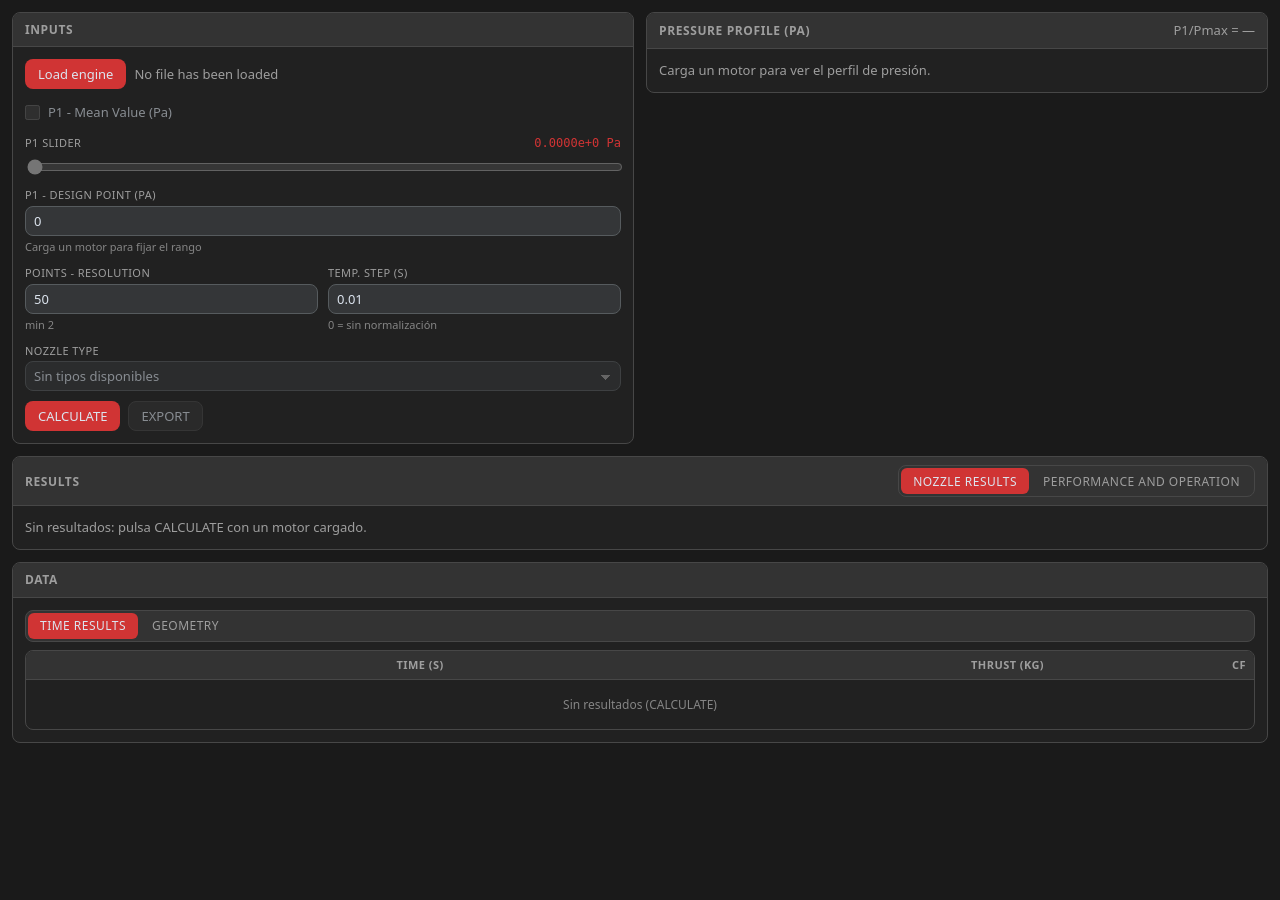
Test case: NozzleTab (T2) › carga el motor mockeado y aplica P1 medio (T2-1/T2-2)
The image size is (1280, 900).
What coordinates should you click on to do the following:
click the button "Load engine"
I would click on:
 (76, 74)
Its box is [25,59,126,89].
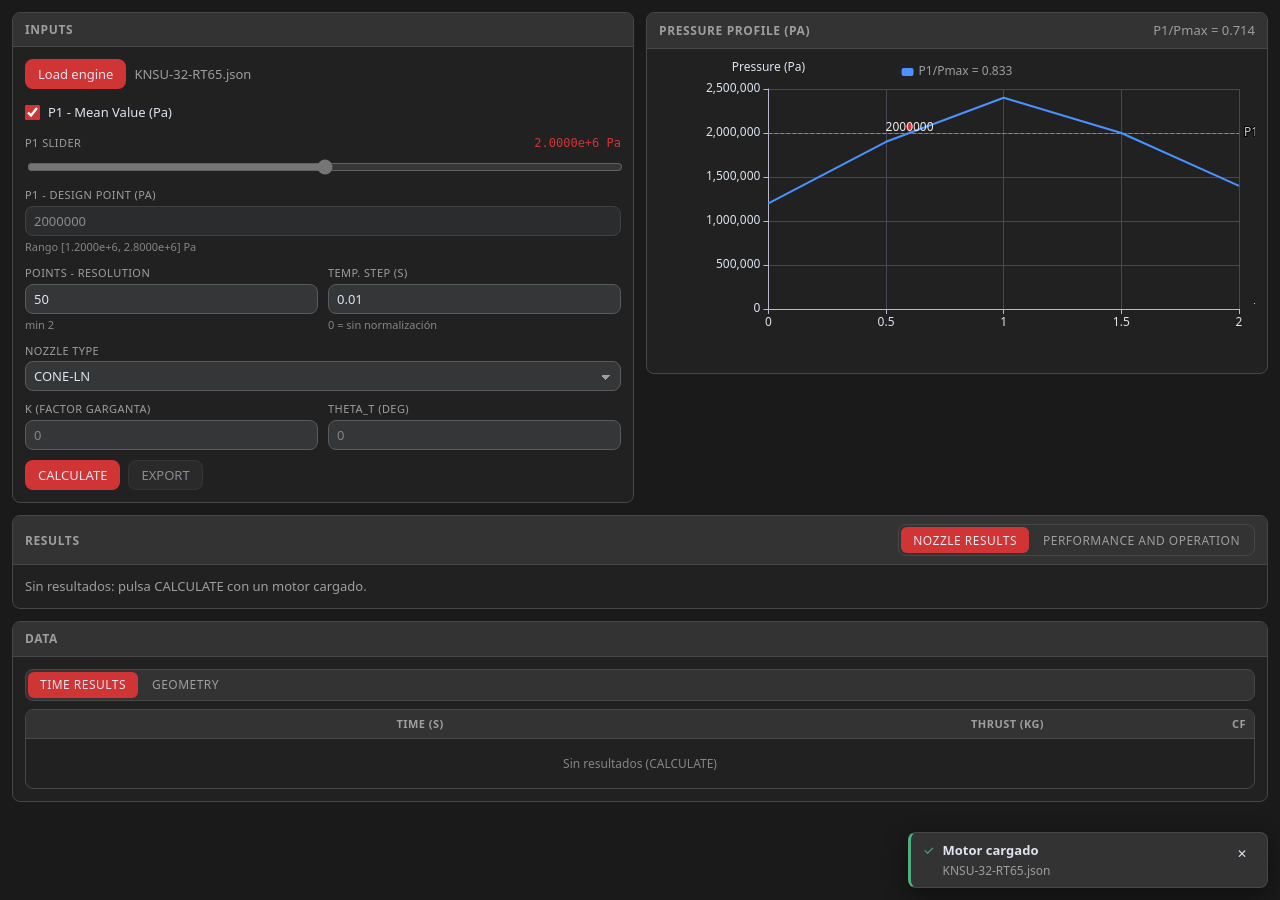
Expected: the text with test id "nozzle-engine-label" reads "KNSU-32-RT65.json", [134,65,251,83]
Expected: the field labelled "P1 - Design point (Pa)" holds "2000000", [25,206,621,236]
Expected: the checkbox labelled "P1 - Mean Value (Pa)" is checked, [25,105,40,120]
